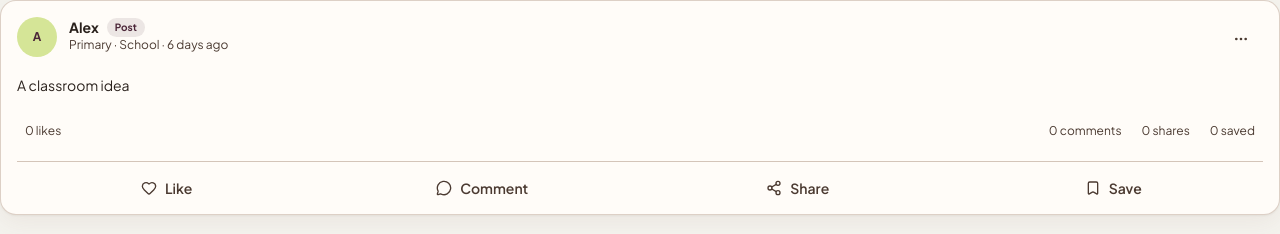
feed recovery › rolls back a failed like without undoing a simultaneous bookmark
This screenshot has width=1280, height=234.
Click the button with aria-label "Like post". click: [167, 188]
box: [9,166,324,210]
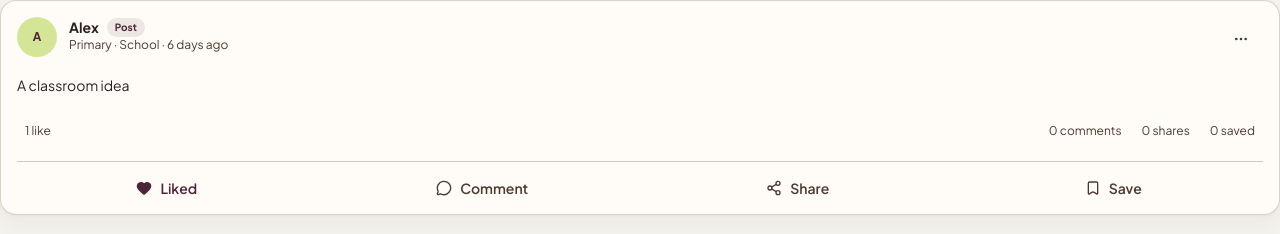
Click the button with aria-label "Save post". click: [1113, 188]
box: [956,166,1271,210]
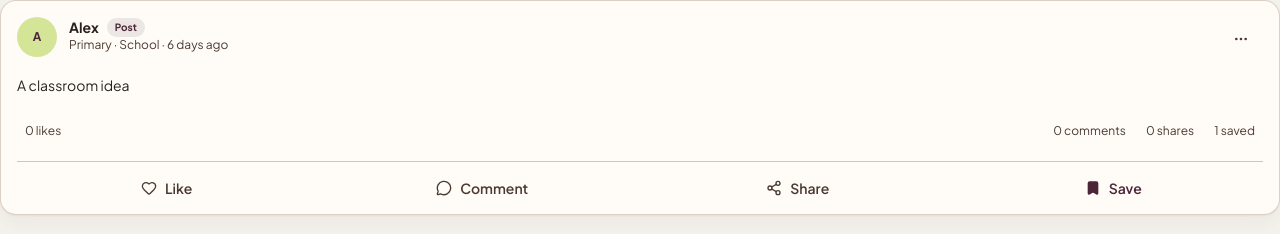
Check: the button with aria-label "Like post" is enabled, box [9,166,324,210]
Check: the button with aria-label "Remove saved post" is shown, box [956,166,1271,210]
Check: the button "0 likes" is shown, box [17,109,69,153]
